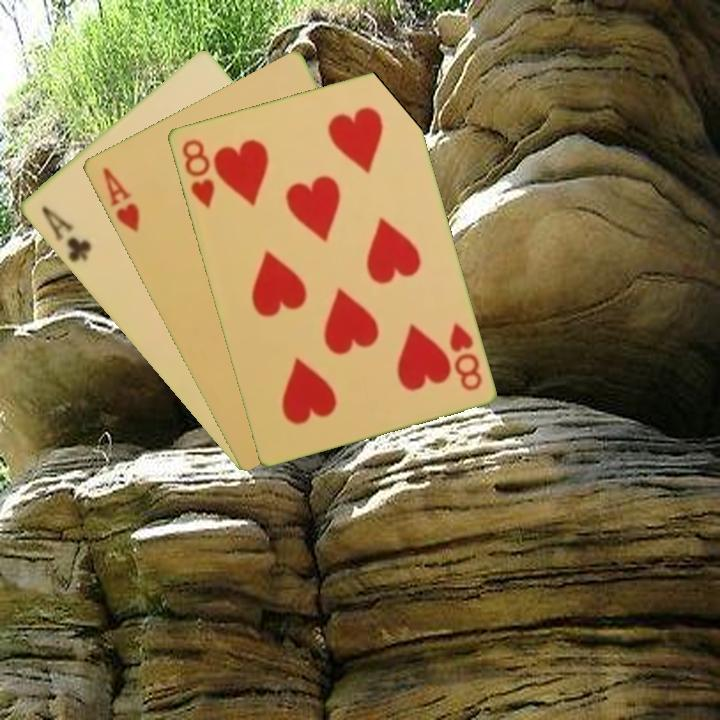8h: (445, 319, 485, 394), (178, 135, 217, 211)
Ac: (37, 202, 94, 265)
Ah: (98, 163, 142, 235)
